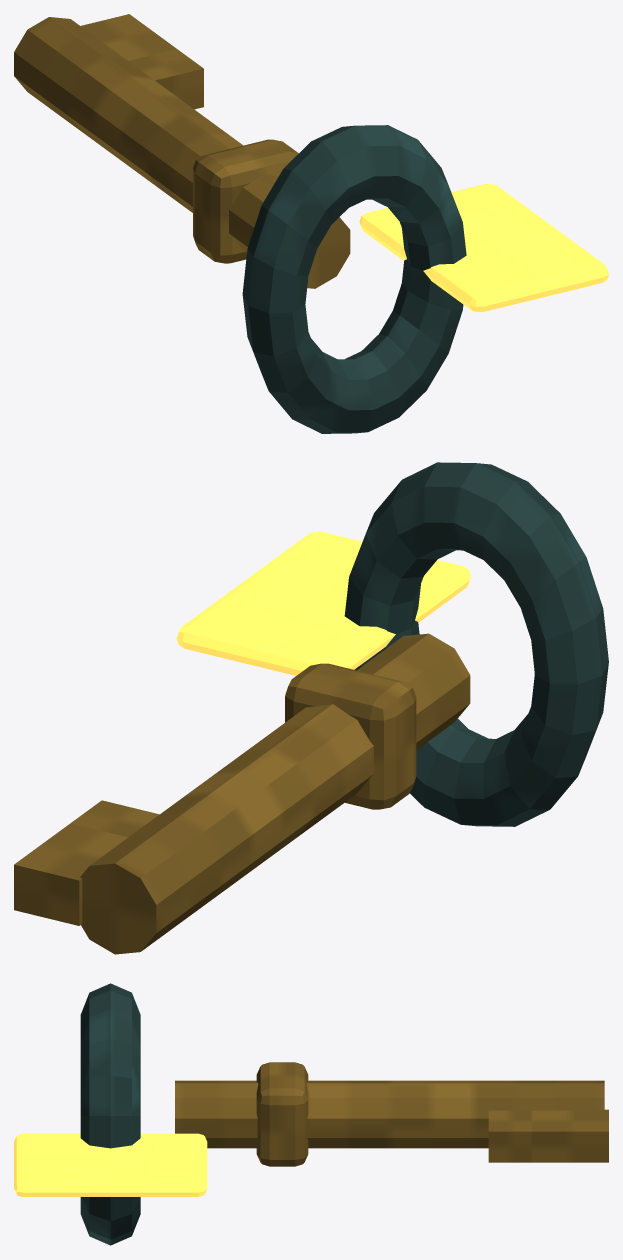
The model's file is ward_key.glb.
3 views of the same model, one above another, from view 1: azimuth 30°, elevation 25°; view 2: azimuth 150°, elevation 25°; view 3: azimuth 270°, elevation 25° (orthographic). The views are drawn at different scales.
Parts seen in each view (by area): view 1: ward_key; view 2: ward_key; view 3: ward_key.
Boxes of the visible parts, x1,y1,x2,y2 form: ward_key: [14, 14, 608, 433]; ward_key: [14, 462, 608, 954]; ward_key: [14, 983, 608, 1245].
Bounding box in the file's own units: 0.0662 × 0.0638 × 0.1385.
3 materials, 3 textured.
